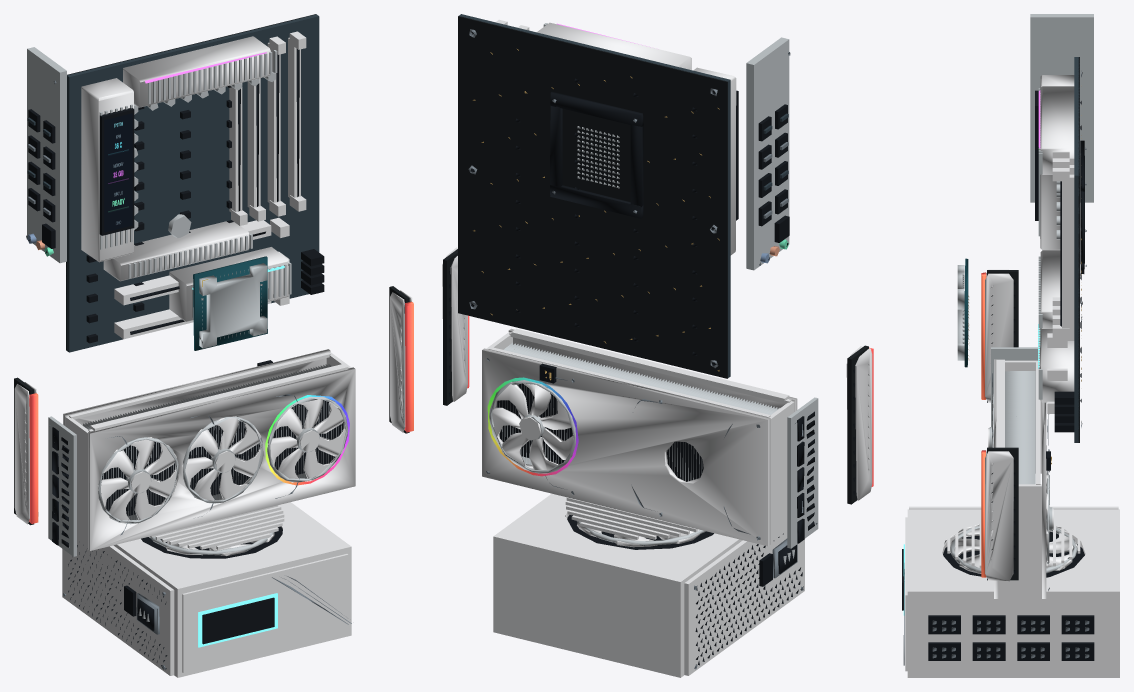
Rendered from gallery88.glb.
3 renders of one model, left to right at view 1: azimuth 30°, elevation 25°; view 2: azimuth 150°, elevation 25°; view 3: azimuth 270°, elevation 25°, orthographic. The views are drawn at different scales.
Visible parts, largest first — view 1: s83-surface-a7996e13-ca06-4cba-8576-d943472aa9a3, s83-fan-0, s83-fan-1, s83-fan-2, s83-surface-c6193888-92f5-4102-a67d-829e283fcc8d, s83-surface-1f45d156-577a-40b6-8b41-edcf7fb4af4d, s83-surface-e82d7635-c868-48d5-bf64-d3d30358f0a1, s83-surface-ffc8a567-86a8-469e-884f-b6b6bba03458; view 2: s83-surface-a7996e13-ca06-4cba-8576-d943472aa9a3, s83-surface-ffc8a567-86a8-469e-884f-b6b6bba03458; view 3: s83-surface-a7996e13-ca06-4cba-8576-d943472aa9a3, s83-surface-1f45d156-577a-40b6-8b41-edcf7fb4af4d.
Part boxes in pixels (<box>): s83-surface-a7996e13-ca06-4cba-8576-d943472aa9a3: <box>14,14,412,677</box>; s83-fan-0: <box>98,437,177,523</box>; s83-fan-1: <box>182,416,261,500</box>; s83-fan-2: <box>267,399,345,480</box>; s83-surface-c6193888-92f5-4102-a67d-829e283fcc8d: <box>104,113,132,232</box>; s83-surface-1f45d156-577a-40b6-8b41-edcf7fb4af4d: <box>29,301,413,523</box>; s83-surface-e82d7635-c868-48d5-bf64-d3d30358f0a1: <box>198,593,277,647</box>; s83-surface-ffc8a567-86a8-469e-884f-b6b6bba03458: <box>265,395,349,485</box>; s83-surface-a7996e13-ca06-4cba-8576-d943472aa9a3: <box>442,14,872,677</box>; s83-surface-ffc8a567-86a8-469e-884f-b6b6bba03458: <box>487,377,578,476</box>; s83-surface-a7996e13-ca06-4cba-8576-d943472aa9a3: <box>902,14,1119,677</box>; s83-surface-1f45d156-577a-40b6-8b41-edcf7fb4af4d: <box>981,272,986,577</box>.
Size of the model in its own units: 1.05 by 1.49 by 0.5282.
7 materials, 7 textured.
